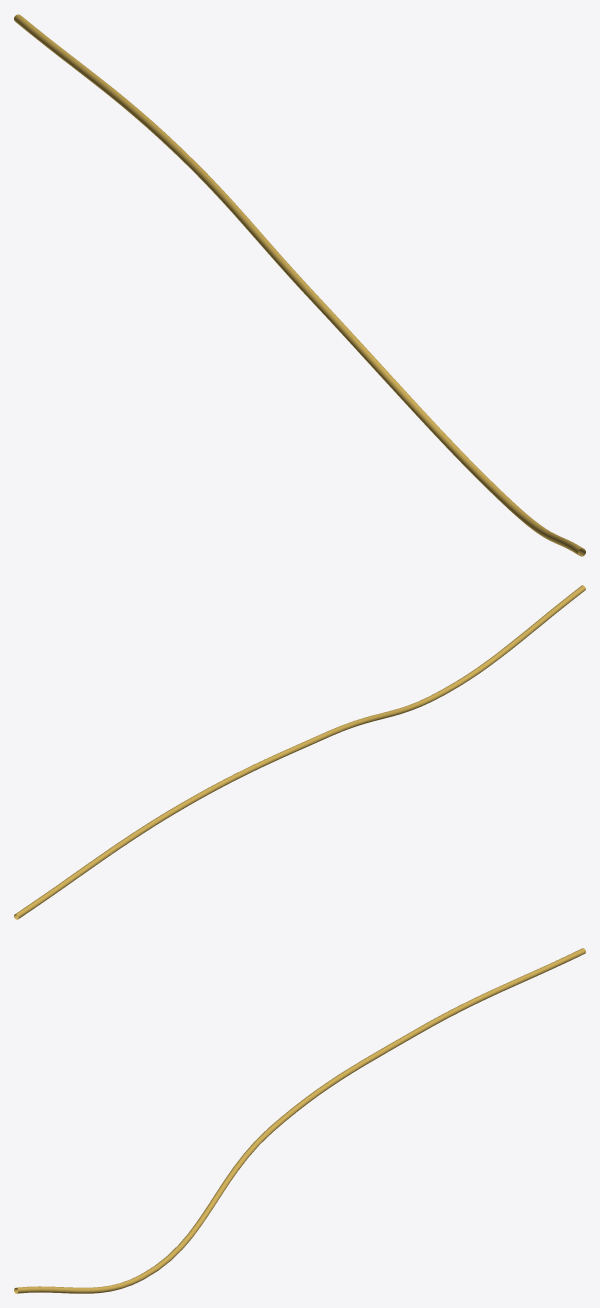
3 renders of one model, top to bottom at view 1: azimuth 30°, elevation 25°; view 2: azimuth 150°, elevation 25°; view 3: azimuth 330°, elevation 25°, orthographic. The views are drawn at different scales.
Parts seen in each view (by area): view 1: 左侧闭孔神经后支; view 2: 左侧闭孔神经后支; view 3: 左侧闭孔神经后支.
Part boxes in pixels (x1=…): 左侧闭孔神经后支: x1=14, y1=14, x2=585, y2=556; 左侧闭孔神经后支: x1=14, y1=585, x2=585, y2=919; 左侧闭孔神经后支: x1=14, y1=948, x2=585, y2=1293.
Bounding box in the file's own units: 0.0245 × 0.0179 × 0.2342.
